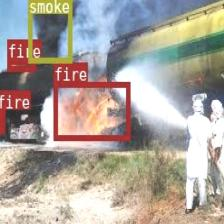fire: (53, 82, 129, 140), (6, 58, 35, 70), (0, 110, 4, 132)
smoke: (28, 0, 71, 62)
